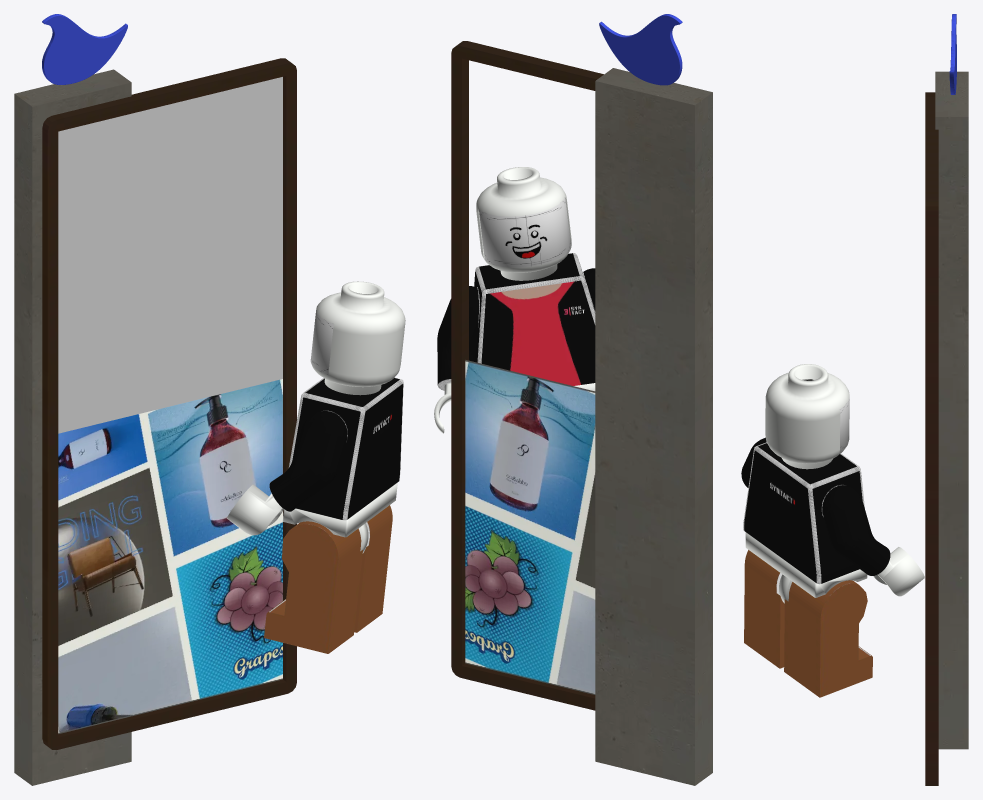
The model's file is syntact11_model.glb.
The picture shows the model from 3 angles, left to right: view 1: azimuth 30°, elevation 25°; view 2: azimuth 150°, elevation 25°; view 3: azimuth 270°, elevation 25°; orthographic projection. The views are drawn at different scales.
Visible parts, largest first — view 1: Plane, TV_Screen, legs.003, NurbsPath.001; view 2: Plane, legs.003, NurbsPath.001; view 3: legs.003, Plane, NurbsPath.001.
Boxes of the visible parts, x1,y1,x2,y2 form: Plane: (14, 58, 296, 785); TV_Screen: (58, 77, 282, 433); legs.003: (227, 281, 405, 653); NurbsPath.001: (42, 14, 127, 84); Plane: (451, 41, 712, 785); legs.003: (434, 167, 595, 433); NurbsPath.001: (599, 14, 682, 85); legs.003: (741, 364, 924, 697); Plane: (925, 71, 968, 785); NurbsPath.001: (949, 14, 956, 94).
Size of the model in its own units: 2.17 by 4.89 by 1.43.
Materials: 8 (5 with a texture image).
